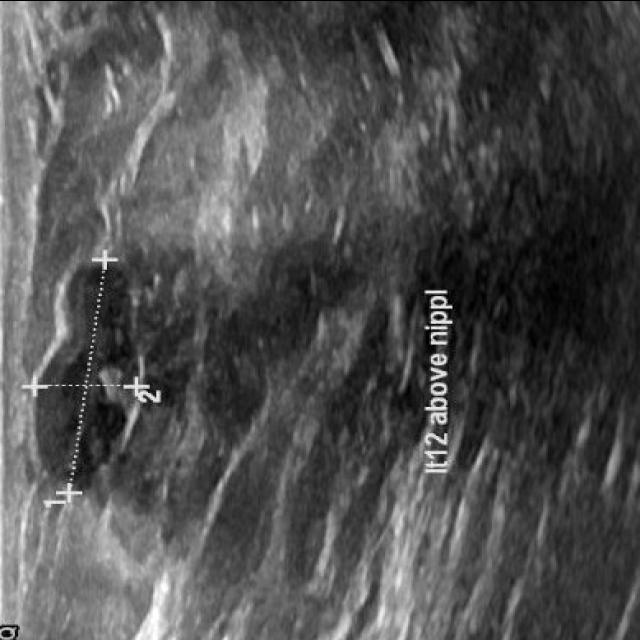Benign: (31, 255, 142, 474)
